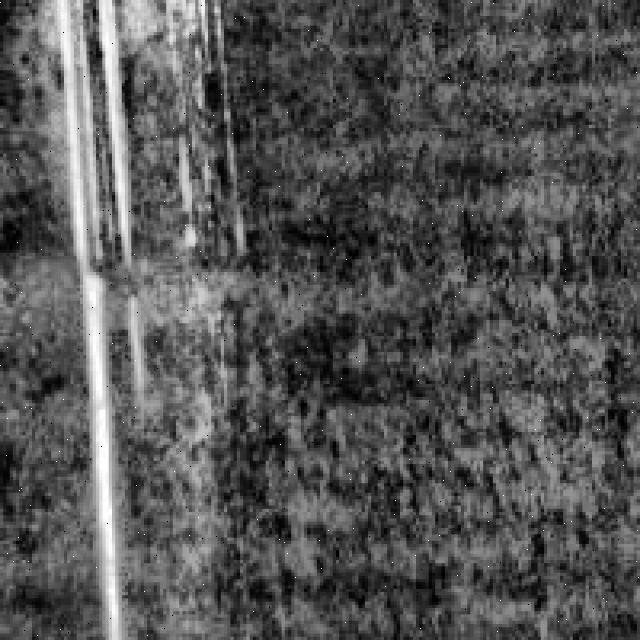Inclusion: (58, 0, 151, 630)
